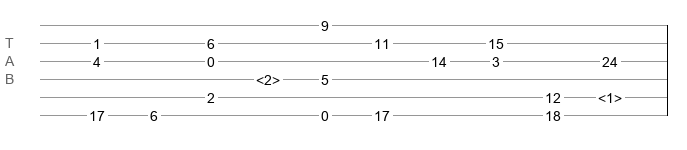0: (207, 54, 215, 64), (321, 108, 329, 118)
1: (93, 36, 101, 46)
11: (374, 36, 390, 46)
12: (545, 90, 561, 100)
14: (431, 54, 447, 64)
15: (488, 36, 504, 46)
17: (89, 108, 105, 118), (374, 108, 390, 118)
18: (545, 108, 561, 118)
2: (207, 90, 215, 100)
24: (602, 54, 618, 64)
3: (492, 54, 500, 64)
4: (93, 54, 101, 64)
5: (321, 72, 329, 82)
6: (150, 108, 158, 118), (207, 36, 215, 46)
9: (321, 18, 329, 28)
harmonic: (256, 72, 280, 82), (598, 90, 622, 100)
